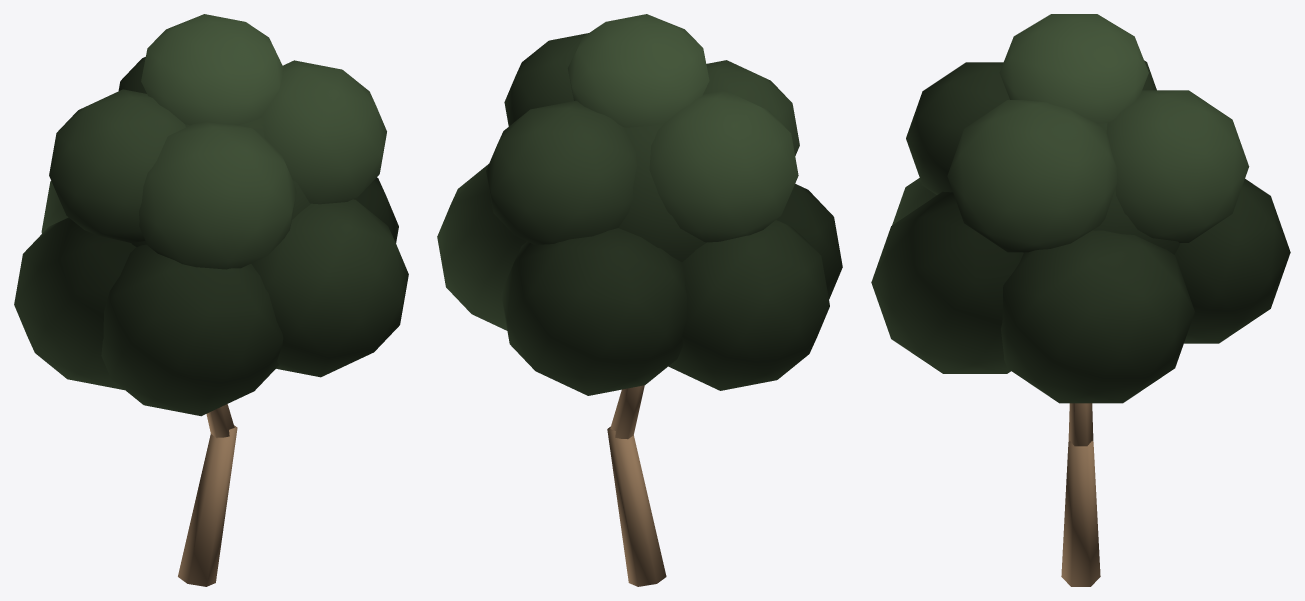
File: scatter5.fbx
The picture shows the model from 3 angles, left to right: view 1: azimuth 30°, elevation 25°; view 2: azimuth 150°, elevation 25°; view 3: azimuth 270°, elevation 25°; orthographic projection. The views are drawn at different scales.
Parts seen in each view (by area): view 1: a2000/400/scatter5; view 2: a2000/400/scatter5; view 3: a2000/400/scatter5.
Part boxes in pixels (<box>): a2000/400/scatter5: <box>14,14,408,586</box>; a2000/400/scatter5: <box>437,14,842,586</box>; a2000/400/scatter5: <box>871,14,1290,586</box>.
Bounding box in the file's own units: 3 × 4.47 × 3.
